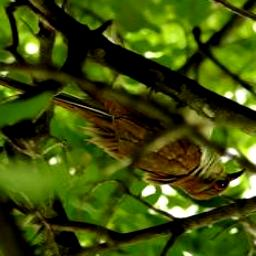Cuckoo: (0, 70, 247, 203)
